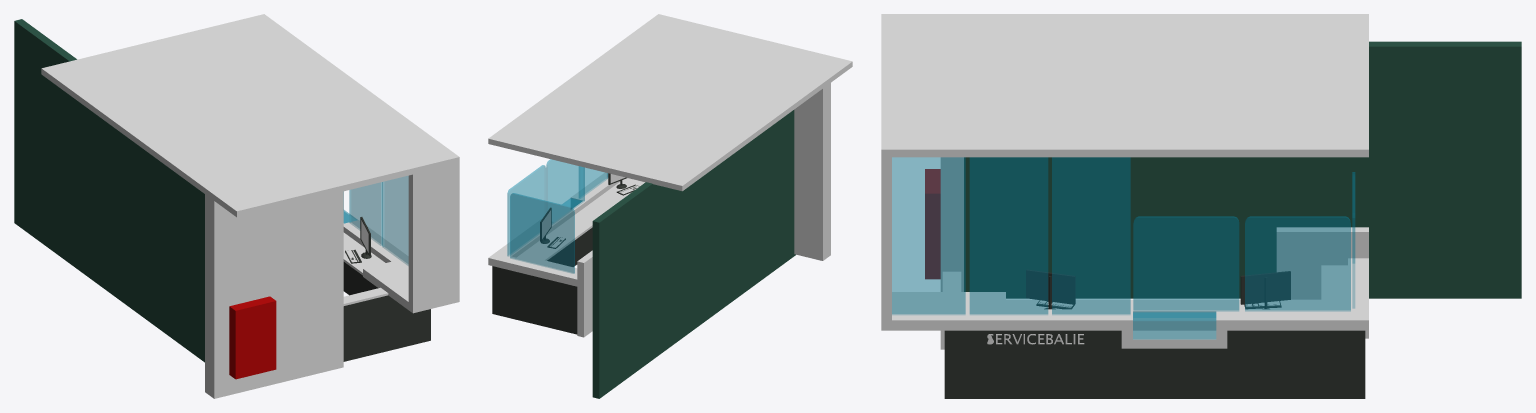
Rendered from Servicebalie.fbx.
3 renders of one model, left to right at view 1: azimuth 30°, elevation 25°; view 2: azimuth 150°, elevation 25°; view 3: azimuth 270°, elevation 25°, orthographic. The views are drawn at different scales.
Visible parts, largest first — view 1: pCube1, pCube5, pCube4, pCube18, pCube7, pCube8, pCube3; view 2: pCube1, pCube5, pCube4, pCube17, pCube10, pCube3, pCube16, pCube8; view 3: pCube1, pCube5, pCube7, pCube8, pCube6, pCube16, pCube10, pCube3, pCube4, pCube2, pCube18, pCylinder3 (+2 smaller).
Part boxes in pixels (x1,y1,x2,y2): pCube1: (41,14,459,361); pCube5: (14,19,204,362); pCube4: (205,191,343,398); pCube18: (229,296,276,379); pCube7: (382,176,408,265); pCube8: (349,182,382,245); pCube3: (343,232,385,275); pCube1: (488,14,852,337); pCube5: (592,110,795,398); pCube4: (794,83,830,260); pCube17: (510,193,574,273); pCube10: (507,165,545,256); pCube3: (517,178,644,272); pCube16: (546,159,584,223); pCube8: (579,166,607,198); pCube1: (881,14,1368,398); pCube5: (964,41,1521,298); pCube7: (969,157,1048,314); pCube8: (1052,157,1130,314); pCube6: (892,157,965,314); pCube16: (1133,216,1239,312); pCube10: (1245,216,1350,311); pCube3: (1006,265,1347,309); pCube4: (940,157,963,349); pCube2: (1133,312,1216,339); pCube18: (925,169,940,279); pCylinder3: (1240,271,1290,309).
Bounding box in the file's own units: 18.36 × 16.36 × 36.61.
